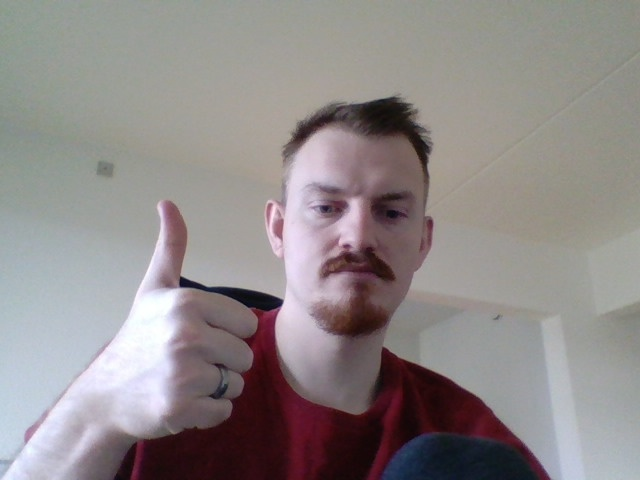ThumpsUp: (117, 199, 262, 440)
